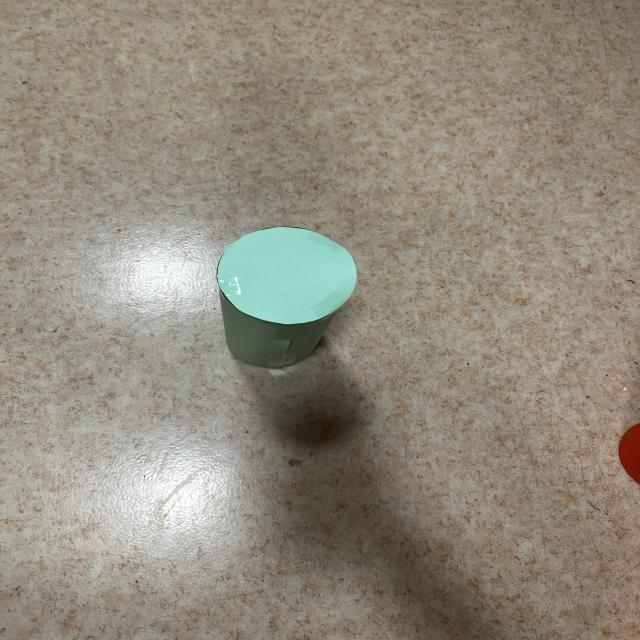meta: (217, 227, 356, 369)
